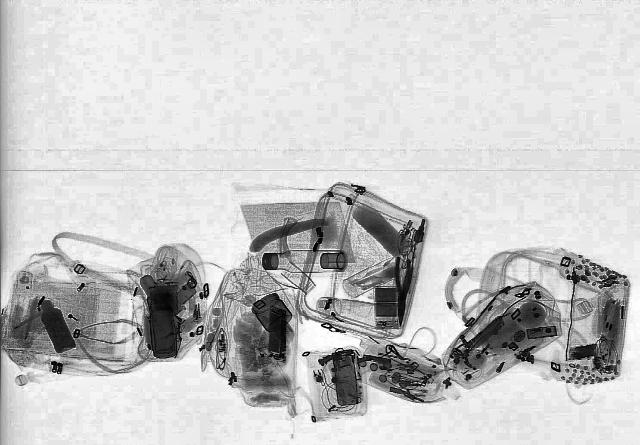Pliers: (391, 256, 413, 326)
